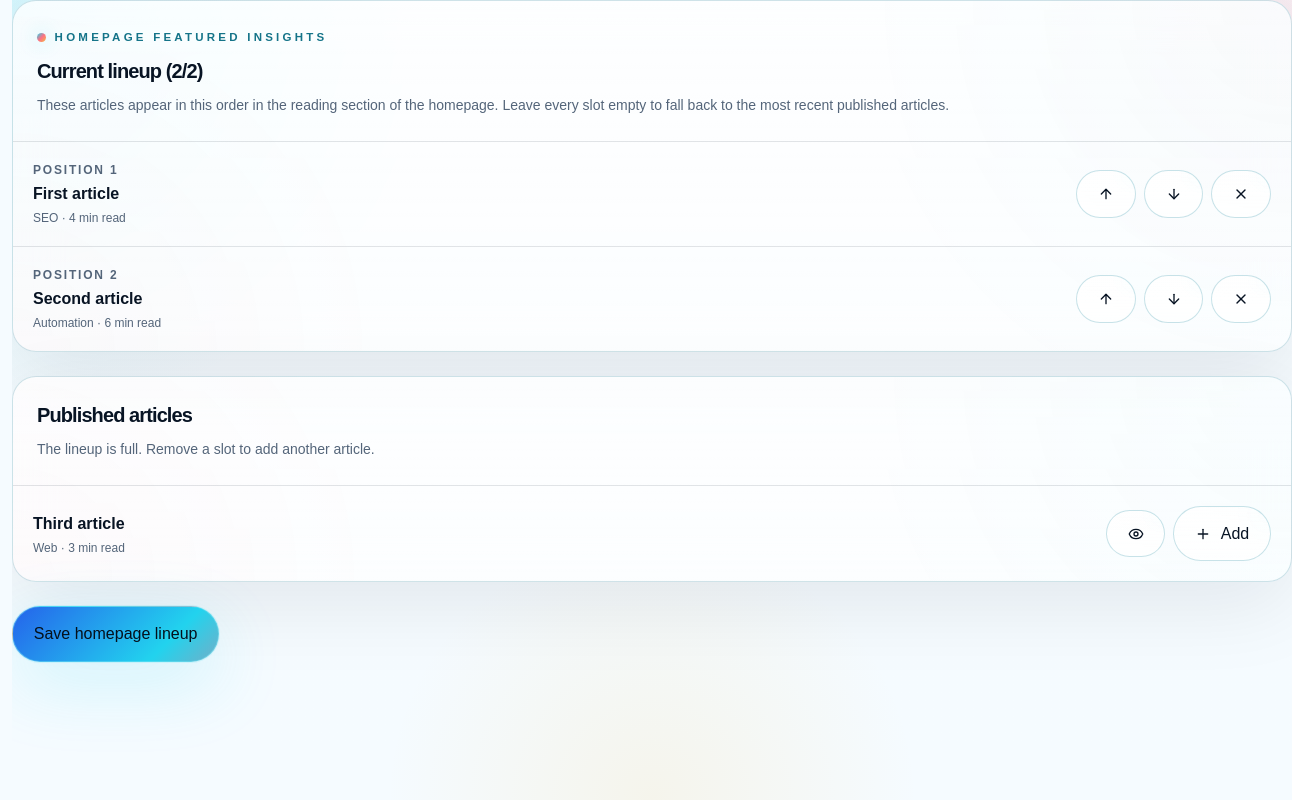
Test case: homepage lineup manager › blocks extra picks once the lineup is full and saves the submitted order
The image size is (1292, 800).
Expected: the text "The lineup is full. Remove a slot to add another article." is shown, left=37, top=441, right=375, bottom=457
Expected: the button with aria-label "Add Third article to the homepage" is disabled, left=1173, top=506, right=1271, bottom=561
Click the button named "Move Second article up" at (1106, 299), box left=1076, top=275, right=1136, bottom=323
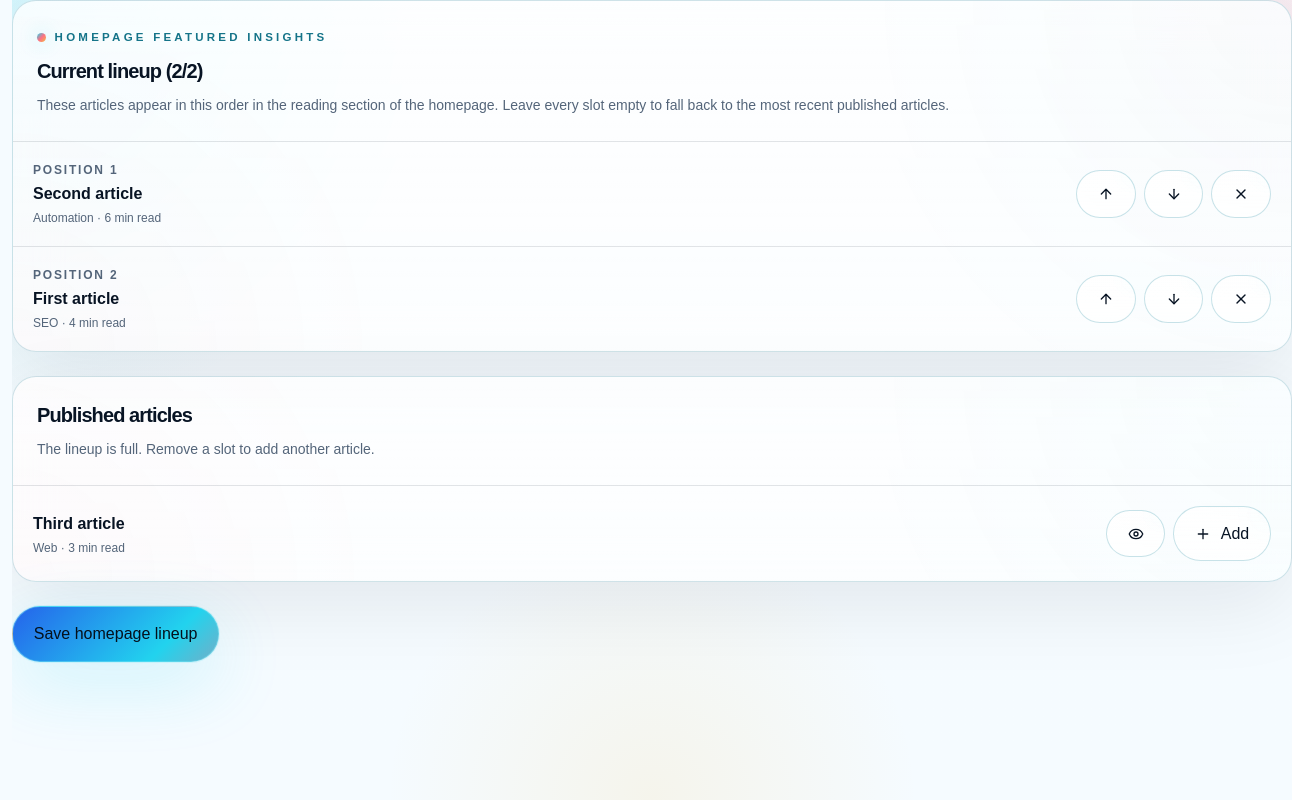
Submit the form named "Save homepage lineup"
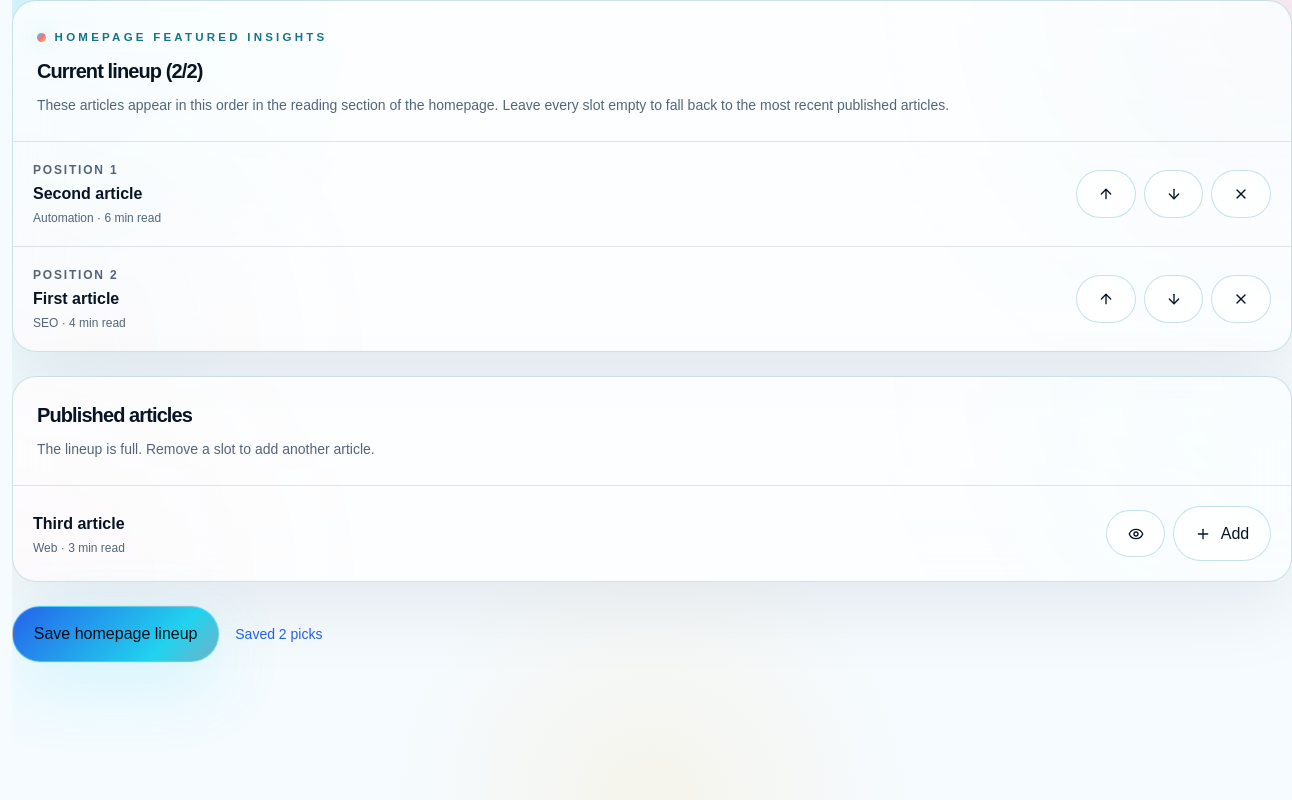
Result: the message reads "Saved 2 picks" at left=235, top=626, right=322, bottom=642
